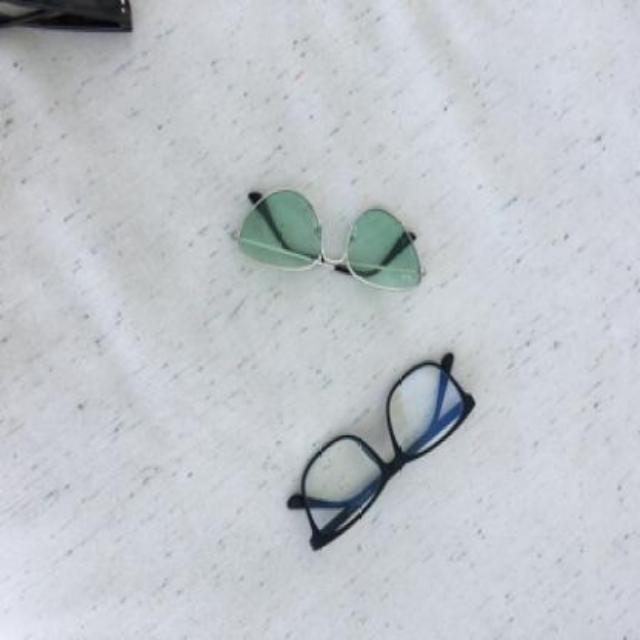glasses: (230, 188, 426, 292)
mask: (285, 350, 475, 550)
